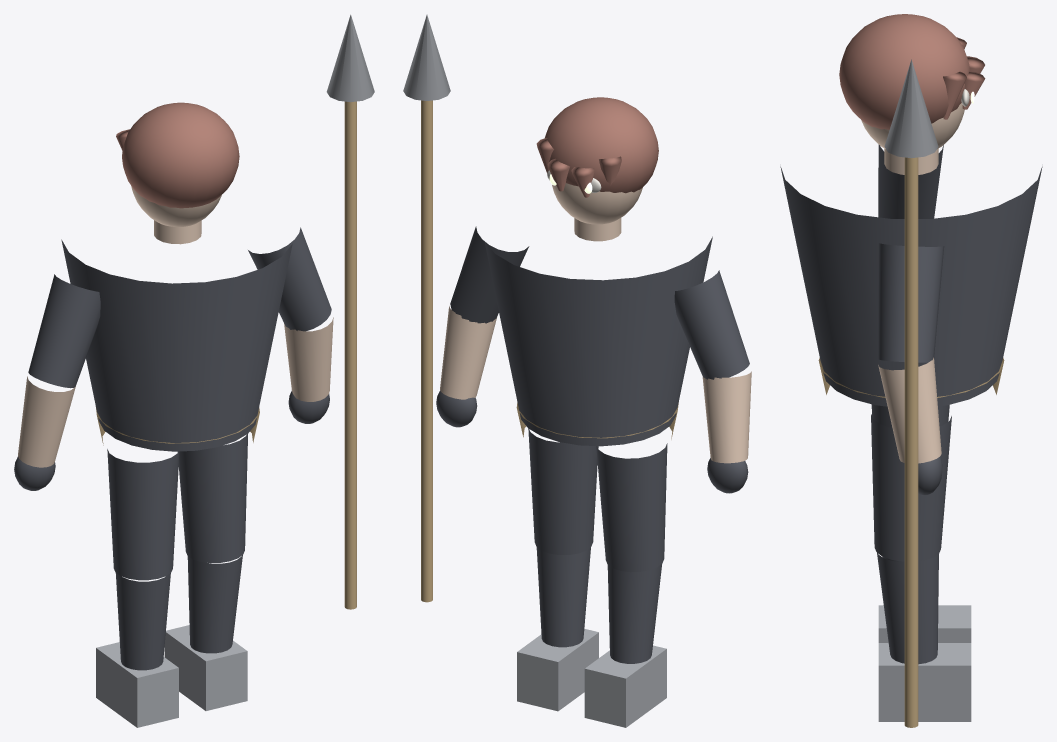
The model's file is guillaume-procedural-v1.glb.
3 renders of one model, left to right at view 1: azimuth 30°, elevation 25°; view 2: azimuth 150°, elevation 25°; view 3: azimuth 270°, elevation 25°, orthographic. The views are drawn at different scales.
Visible parts, largest first — view 1: Outfit_Torso, Hair_Cap, Body_Thigh_L, Body_Thigh_R, Weapon_SpearShaft, Body_UpperArm_L, Outfit_Boot_L, Outfit_Boot_R, Body_Shin_R, Body_Shin_L, Body_UpperArm_R, Body_Forearm_L (+6 smaller); view 2: Outfit_Torso, Hair_Cap, Body_Thigh_L, Body_Thigh_R, Weapon_SpearShaft, Body_UpperArm_L, Outfit_Boot_L, Outfit_Boot_R, Body_Shin_R, Body_Shin_L, Body_Forearm_L, Body_Forearm_R (+6 smaller); view 3: Outfit_Torso, Hair_Cap, Weapon_SpearShaft, Body_Thigh_R, Outfit_Boot_R, Body_UpperArm_R, Body_Shin_R, Body_Forearm_R, Weapon_SpearHead, Body_UpperArm_L, Outfit_Boot_L, Body_Head (+5 smaller).
Part boxes in pixels (x1,y1,x2,y2): Outfit_Torso: [61, 239, 292, 451]; Hair_Cap: [122, 102, 239, 208]; Body_Thigh_L: [107, 449, 179, 580]; Body_Thigh_R: [177, 434, 247, 562]; Weapon_SpearShaft: [344, 101, 356, 609]; Body_UpperArm_L: [28, 274, 100, 388]; Outfit_Boot_L: [96, 642, 178, 727]; Outfit_Boot_R: [164, 625, 247, 710]; Body_Shin_R: [187, 555, 242, 653]; Body_Shin_L: [115, 573, 170, 670]; Body_UpperArm_R: [248, 227, 331, 331]; Body_Forearm_L: [18, 376, 75, 467]; Outfit_Torso: [484, 236, 712, 446]; Hair_Cap: [545, 97, 658, 193]; Body_Thigh_L: [596, 443, 667, 572]; Body_Thigh_R: [528, 428, 598, 554]; Weapon_SpearShaft: [421, 100, 432, 602]; Body_UpperArm_L: [674, 270, 749, 379]; Outfit_Boot_L: [584, 645, 666, 727]; Outfit_Boot_R: [517, 628, 598, 711]; Body_Shin_R: [536, 547, 590, 647]; Body_Shin_L: [607, 564, 661, 663]; Body_Forearm_L: [702, 371, 751, 463]; Body_Forearm_R: [440, 306, 496, 399]; Outfit_Torso: [780, 166, 1042, 406]; Hair_Cap: [839, 14, 969, 129]; Weapon_SpearShaft: [904, 157, 918, 727]; Body_Thigh_R: [871, 414, 951, 561]; Outfit_Boot_R: [878, 643, 971, 721]; Body_UpperArm_R: [878, 243, 944, 362]; Body_Shin_R: [877, 553, 938, 664]; Body_Forearm_R: [878, 357, 941, 463]; Weapon_SpearHead: [884, 59, 938, 158]; Body_UpperArm_L: [878, 144, 943, 218]; Outfit_Boot_L: [878, 605, 971, 642]; Body_Head: [861, 103, 964, 148].
Size of the model in its own units: 1.24 by 2.19 by 0.7182.
